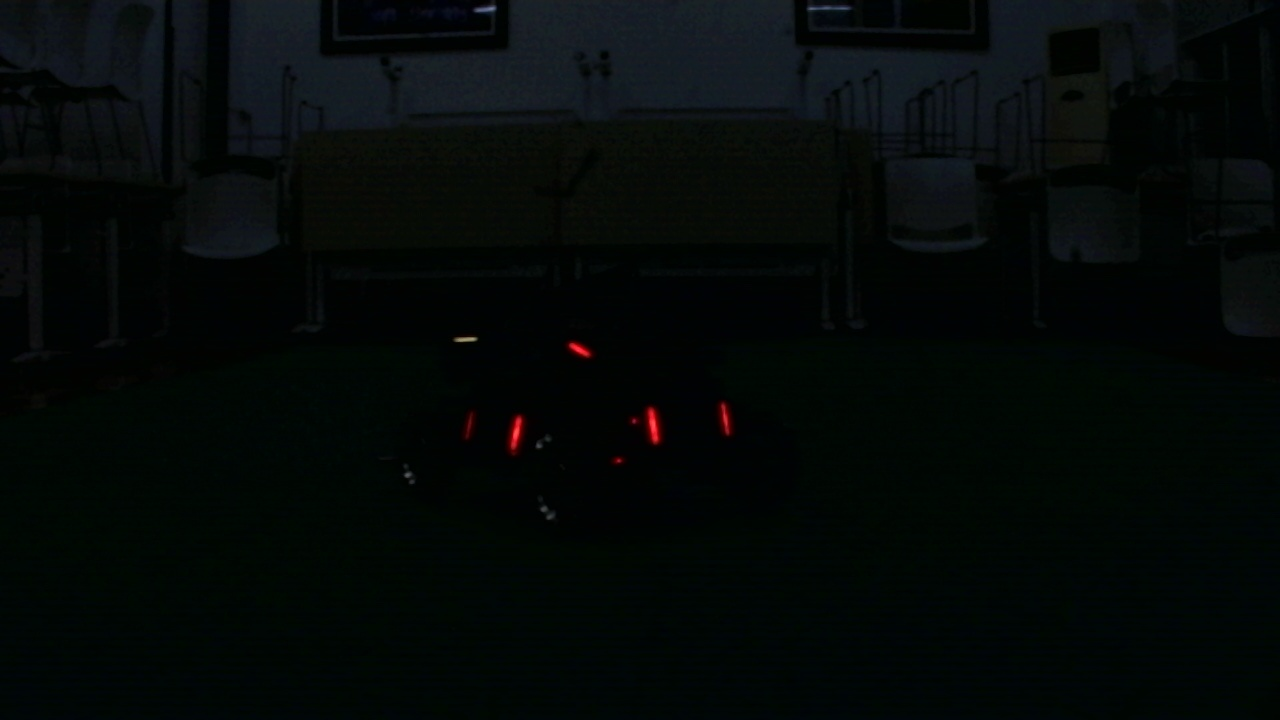lamp: (643, 404, 666, 445), (718, 394, 734, 437), (510, 413, 523, 454)
pair1: (644, 403, 729, 446)
